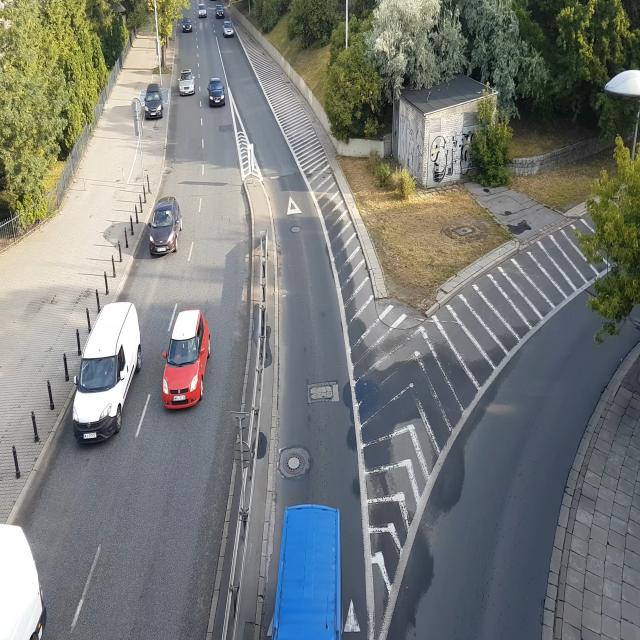car: (272, 500, 351, 640), (74, 304, 141, 443), (0, 513, 50, 639), (163, 308, 212, 412), (147, 197, 181, 255), (144, 89, 164, 119), (209, 79, 226, 106), (180, 73, 197, 97), (180, 15, 194, 34), (198, 4, 208, 22), (224, 24, 235, 36), (216, 7, 226, 19)
